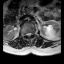CCS_normal: (28, 30, 29, 39)
LFS_stenosis: (31, 30, 33, 37)
LLS_normal: (29, 30, 31, 38)
RFS_stenosis: (24, 31, 26, 37)
RLS_normal: (26, 31, 28, 37)
